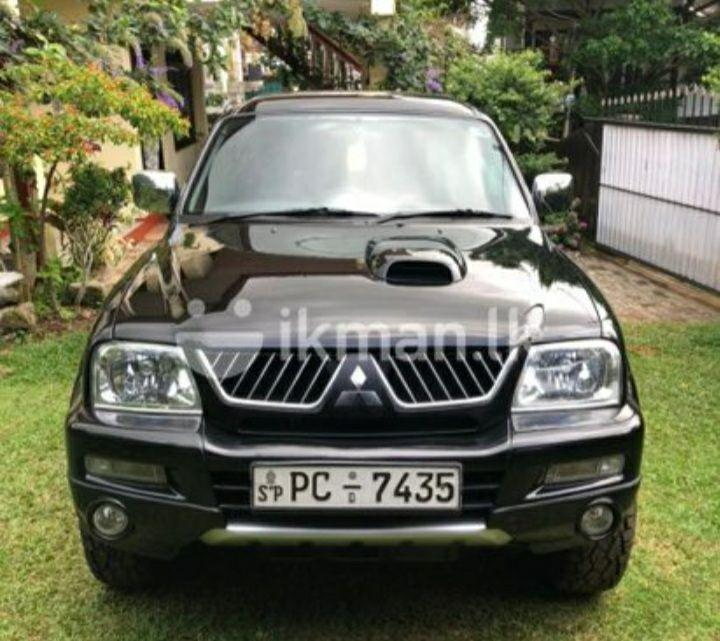license-plate: (251, 464, 458, 508)
